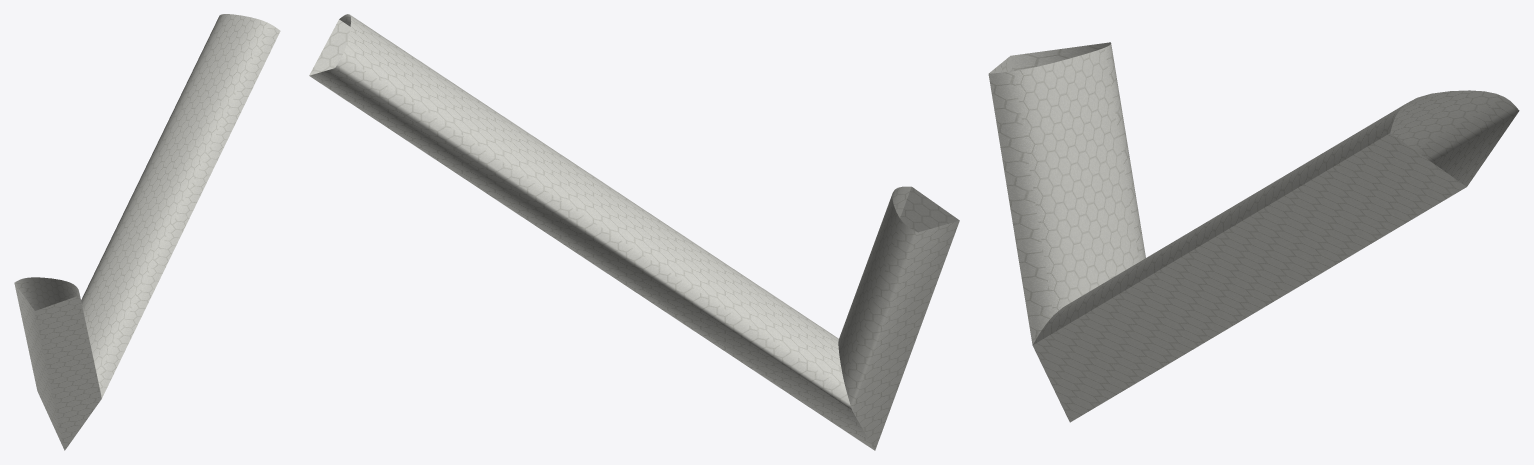
File: 03leg1-3.obj
3 views of the same model, side by side, from view 1: azimuth 30°, elevation 25°; view 2: azimuth 150°, elevation 25°; view 3: azimuth 270°, elevation 25° (orthographic). The views are drawn at different scales.
Visible parts, largest first — view 1: Line001; view 2: Line001; view 3: Line001.
Boxes of the visible parts, <box> form: Line001: <box>14,14,280,450</box>; Line001: <box>309,14,959,450</box>; Line001: <box>988,42,1519,422</box>.
Bounding box in the file's own units: 1.88 × 1.57 × 1.26.
